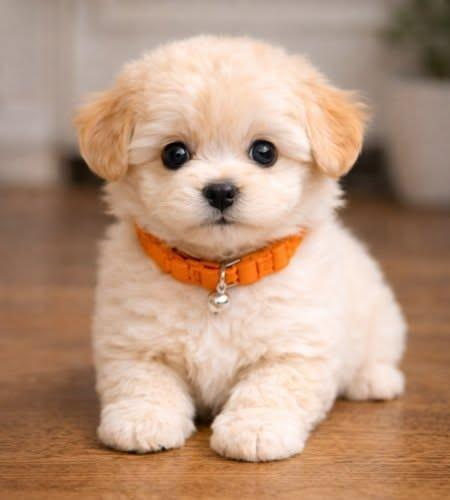puppy-dog: (70, 34, 406, 467)
